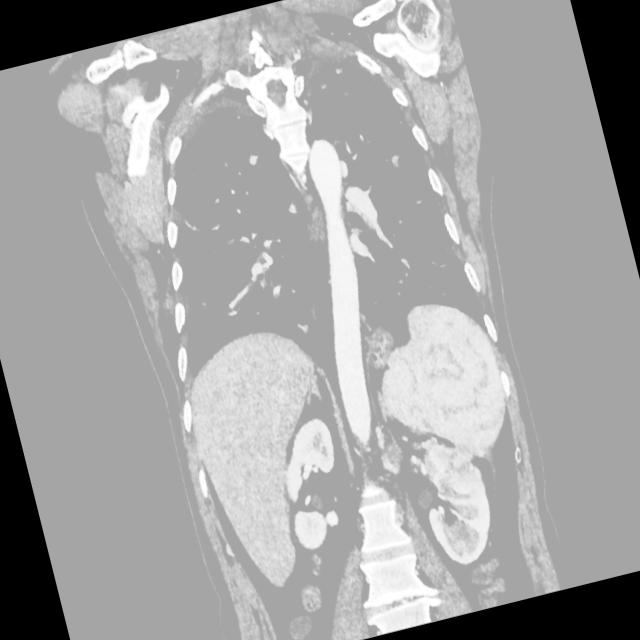TUMOR: (103, 94, 640, 638)
